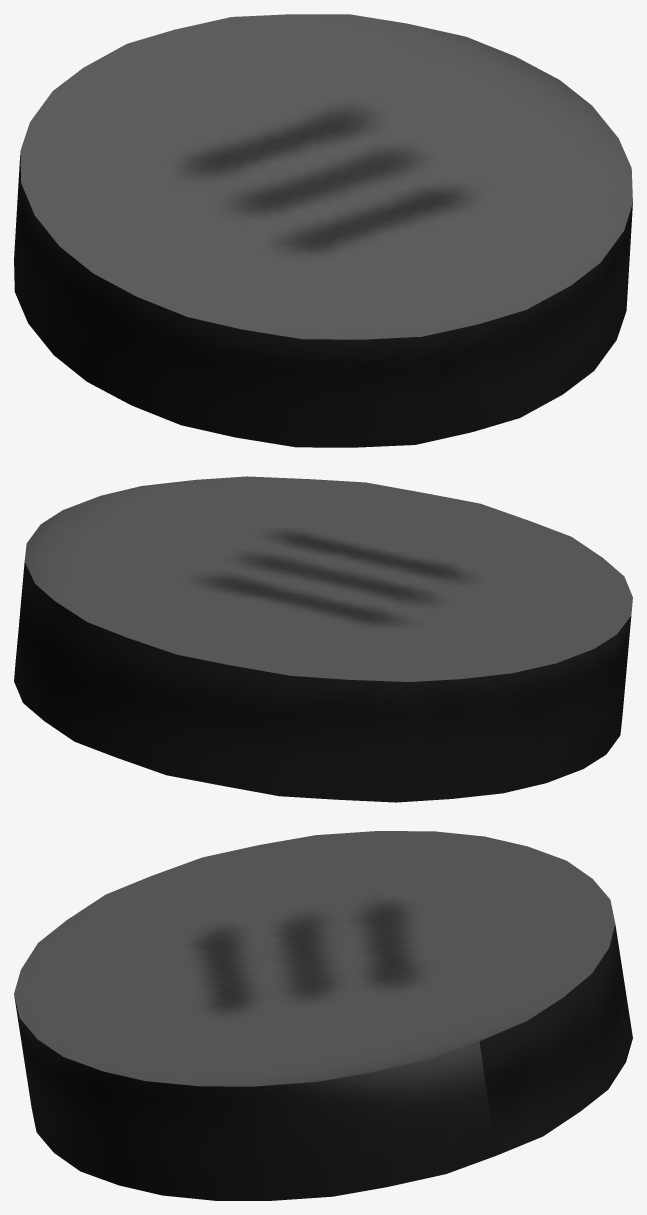
File: LMenu.obj
3 views of the same model, one above another, from view 1: azimuth 30°, elevation 25°; view 2: azimuth 150°, elevation 25°; view 3: azimuth 270°, elevation 25° (orthographic).
Visible parts, largest first — view 1: P_Controller_L:LMenu; view 2: P_Controller_L:LMenu; view 3: P_Controller_L:LMenu.
Part boxes in pixels (x1=…): P_Controller_L:LMenu: x1=14, y1=14, x2=632, y2=447; P_Controller_L:LMenu: x1=14, y1=476, x2=632, y2=802; P_Controller_L:LMenu: x1=14, y1=831, x2=632, y2=1200.
Bounding box in the file's own units: 0.00822 × 0.00279 × 0.00834.
Materials: 1 (1 with a texture image).
